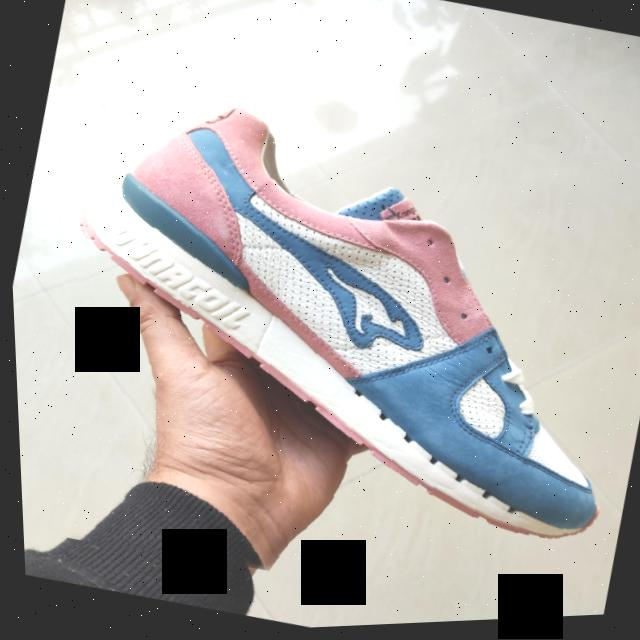shoe: (2, 48, 640, 640)
